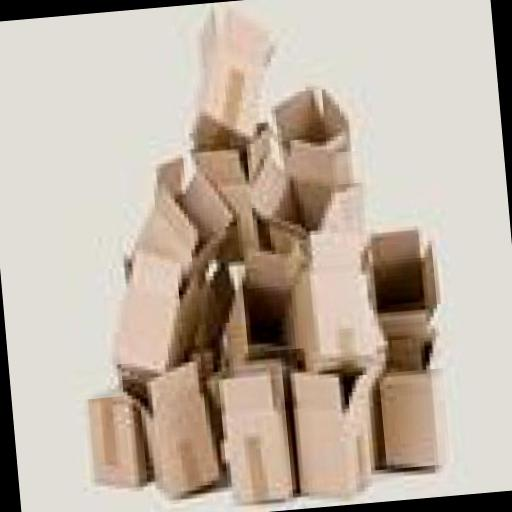cardboard: (111, 242, 246, 380), (212, 340, 318, 504), (190, 135, 316, 269), (119, 146, 241, 280), (182, 0, 290, 145), (286, 214, 382, 368), (290, 362, 397, 500), (133, 356, 228, 494), (362, 220, 446, 370), (278, 79, 360, 225), (216, 252, 308, 362), (374, 356, 448, 478), (88, 386, 146, 484)
